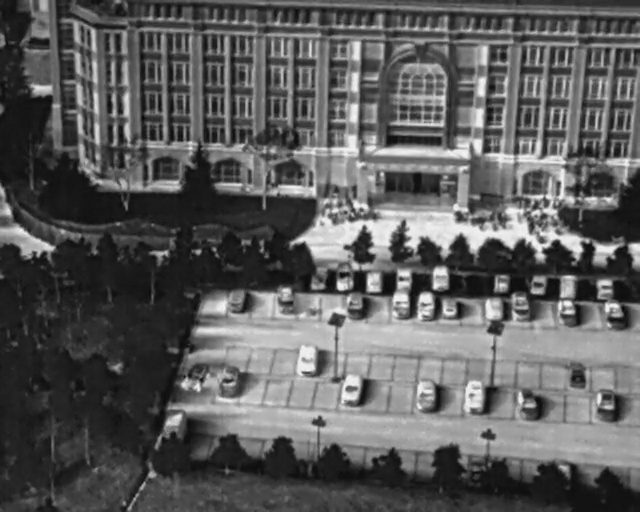Car: (179, 358, 210, 397), (215, 360, 243, 400), (514, 384, 541, 423), (600, 295, 629, 331), (340, 372, 366, 407), (297, 341, 320, 377), (165, 408, 188, 443), (415, 377, 437, 413), (555, 296, 579, 329), (309, 260, 333, 293), (467, 377, 486, 414), (595, 387, 615, 422), (511, 288, 531, 322), (415, 290, 436, 322), (335, 260, 355, 292), (227, 285, 248, 314), (432, 262, 451, 293), (278, 281, 294, 315), (440, 294, 459, 321), (393, 289, 410, 319), (484, 296, 504, 320), (594, 276, 614, 300), (395, 266, 413, 292), (530, 271, 548, 297), (348, 290, 363, 321), (559, 273, 576, 300), (365, 268, 383, 293), (493, 272, 510, 294)
